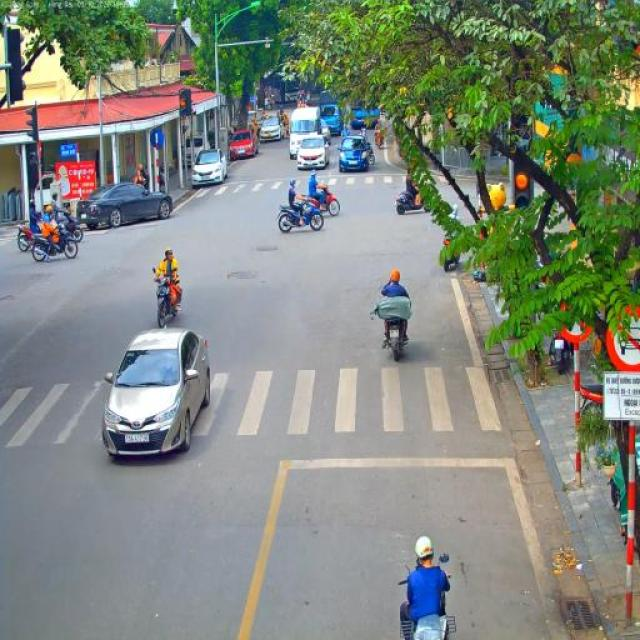bus: (529, 66, 591, 176), (290, 107, 320, 159), (263, 69, 301, 105)
car: (100, 328, 210, 459), (76, 183, 173, 228), (192, 148, 228, 188), (296, 134, 330, 170), (338, 135, 368, 173), (228, 130, 260, 160), (258, 116, 283, 142), (319, 120, 331, 146)
motorcycle: (397, 551, 455, 640), (152, 267, 182, 328), (277, 198, 324, 233), (31, 228, 79, 262), (380, 317, 410, 362), (16, 212, 45, 252), (304, 184, 340, 216), (395, 187, 431, 214), (551, 330, 573, 374), (61, 209, 84, 243), (442, 238, 462, 272), (374, 130, 385, 150), (366, 144, 375, 164), (340, 128, 350, 138)
truck: (318, 92, 342, 136), (349, 103, 382, 129)
